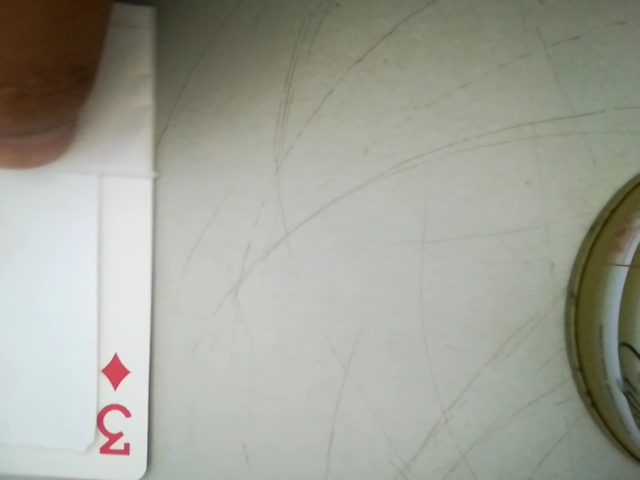fk 3: (80, 338, 146, 471)
